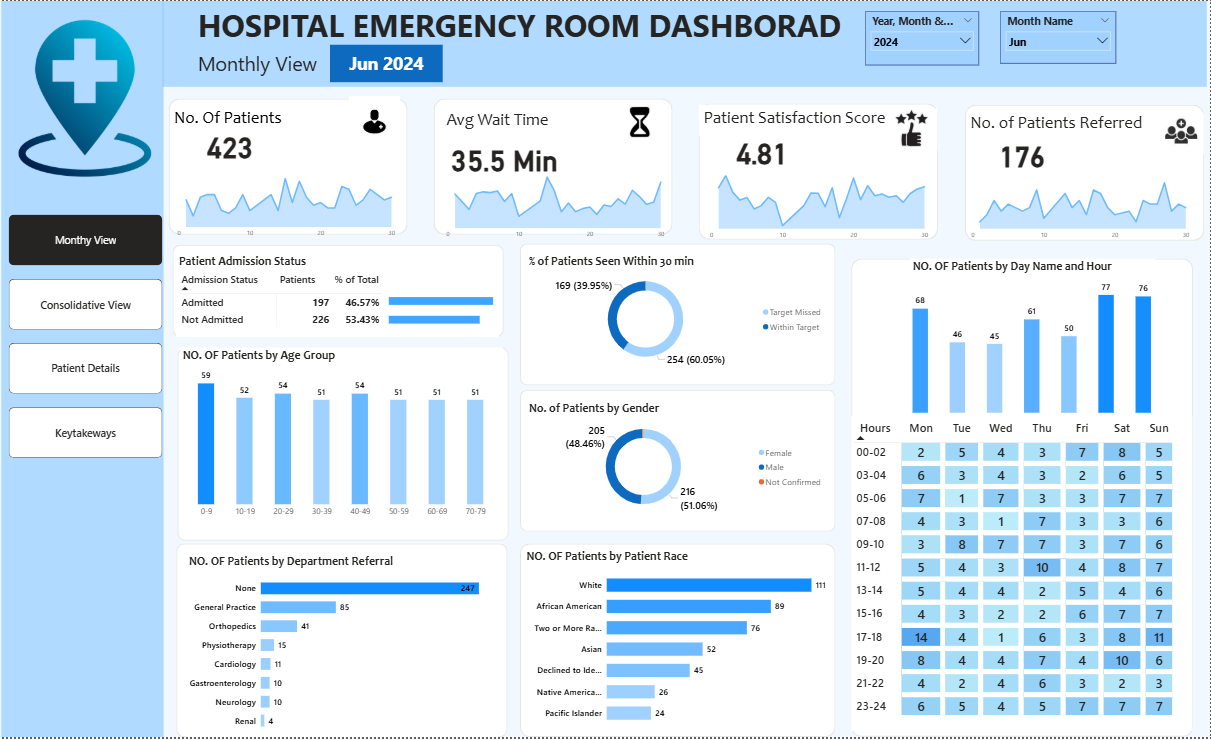

The dashboard page shown, as its layout file describes it:
{"tool":"powerbi","page":{"name":"Monthy View","canvas":[2300,1400],"ordinal":0},"visuals":[{"type":"shape","box":[1620,490,650,910],"z":0},{"type":"shape","box":[2.4,0,309.1,1400.5],"z":1000},{"type":"shape","box":[310,0,1986.7,163.3],"z":2000},{"type":"textbox","box":[370,0,1275,90],"z":3000},{"type":"shape","box":[321,185.5,454.1,259.2],"z":4000},{"type":"textbox","box":[369.9,138.1,342.7,2.5],"z":5000},{"type":"cardVisual","fields":{"Data":["Hospital ER_Data (1).NO. OF Patients"]},"box":[310.7,199.7,251.5,155.3],"z":6000},{"type":"slicer","fields":{"Values":["Date Table.Year","Date Table.Month & Year"]},"box":[1644.6,19.7,217,103.6],"z":7000},{"type":"slicer","fields":{"Values":["Date Table.Month Name"]},"box":[1902.2,19,221.1,99.9],"z":8000},{"type":"textbox","box":[369.9,88.8,473.4,69],"z":9000},{"type":"textbox","box":[325.5,197.3,221.9,49.3],"z":10000},{"type":"areaChart","fields":{"Category":["Date Table.Date.Variation.Date Hierarchy.Day"],"Y":["Hospital ER_Data (1).NO. OF Patients"]},"box":[325.5,313.1,434,145.5],"z":11000},{"type":"card","fields":{"Values":["Min(Date Table.Month & Year)"]},"box":[628.8,83.8,214.5,71.5],"z":12000},{"type":"shape","box":[825.2,185.5,454.1,259.2],"z":13000},{"type":"shape","box":[1834.5,197.3,455,258.9],"z":14000},{"type":"textbox","box":[1840.4,206.9,344.8,49.9],"z":15000},{"type":"areaChart","fields":{"Category":["Date Table.Date.Variation.Date Hierarchy.Day"],"Y":["Avg(Hospital ER_Data (1).Patient Waittime)"]},"box":[837,316.2,435.1,145],"z":16000},{"type":"cardVisual","fields":{"Data":["Hospital ER_Data (1).Avg Wait Time"]},"box":[789.4,242.5,340,118.9],"z":17000},{"type":"shape","box":[1329.4,195,455,259.2],"z":18000},{"type":"textbox","box":[844.1,199.7,223.5,61.8],"z":19000},{"type":"textbox","box":[1329.2,197.4,363.8,59.4],"z":20000},{"type":"cardVisual","fields":{"Data":["Hospital ER_Data (1).Satisfaction Score"]},"box":[1279.2,230.6,340,118.9],"z":21000},{"type":"areaChart","fields":{"Category":["Date Table.Date.Variation.Date Hierarchy.Day"],"Y":["Hospital ER_Data (1).Satisfaction Score"]},"box":[1338.7,318.6,435.1,145],"z":22000},{"type":"cardVisual","fields":{"Data":["Hospital ER_Data (1).No of patient Referred"]},"box":[1773.8,235.4,340,118.9],"z":23000},{"type":"shape","box":[328.1,463.7,630.1,176],"z":24000},{"type":"areaChart","fields":{"Category":["Date Table.Date.Variation.Date Hierarchy.Day"],"Y":["Hospital ER_Data (1).No of patient Referred"]},"box":[1835.6,318.6,435.1,145],"z":25000},{"type":"pivotTable","title":"Patient Admission Status","fields":{"Rows":["Hospital ER_Data (1).Admission Status"],"Values":["Hospital ER_Data (1).NO. OF Patients1","Hospital ER_Data (1).NO. OF Patients"]},"box":[335.3,480.3,613.5,159.3],"z":26000},{"type":"barChart","fields":{"Category":["Hospital ER_Data (1).Admission Status"],"Y":["Hospital ER_Data (1).NO. OF Patients"]},"box":[734.7,532.6,273.4,107],"z":27000},{"type":"shape","box":[336.7,658.3,630,368.3],"z":28000},{"type":"clusteredColumnChart","fields":{"Category":["Hospital ER_Data (1).Age Group"],"Y":["Hospital ER_Data (1).NO. OF Patients"]},"box":[342.4,658.6,613.5,332.9],"z":29000},{"type":"shape","box":[335.3,1031.9,630.1,368.5],"z":30000},{"type":"clusteredBarChart","fields":{"Category":["Hospital ER_Data (1).Department Referral"],"Y":["Hospital ER_Data (1).NO. OF Patients"]},"box":[354.3,1051,594.4,349.5],"z":31000},{"type":"shape","box":[989.1,461.3,600,270],"z":32000},{"type":"donutChart","title":"% of Patients Seen Within 30 min","fields":{"Category":["Hospital ER_Data (1).Wait Time Status"],"Y":["Hospital ER_Data (1).NO. OF Patients"]},"box":[1001.7,480,575,221.7],"z":33000},{"type":"shape","box":[988.3,738.3,600,270],"z":34000},{"type":"donutChart","title":"No. of Patients by Gender","fields":{"Y":["Hospital ER_Data (1).NO. OF Patients"],"Category":["Hospital ER_Data (1).Patient Gender"]},"box":[1001.7,761.7,575,221.7],"z":35000},{"type":"shape","box":[988.3,1031.7,600,368.3],"z":36000},{"type":"clusteredBarChart","fields":{"Y":["Hospital ER_Data (1).NO. OF Patients"],"Category":["Hospital ER_Data (1).Patient Race"]},"box":[996.7,1041.7,580,348.3],"z":37000},{"type":"pivotTable","fields":{"Rows":["Hospital ER_Data (1).Waittime Interval"],"Columns":["Date Table.Day Name"],"Values":["Hospital ER_Data (1).NO. OF Patients"]},"box":[1619.2,789.4,649.1,599.2],"z":38000},{"type":"columnChart","title":"NO. OF Patients by Day Name and Hour","fields":{"Category":["Date Table.Day Name"],"Y":["Hospital ER_Data (1).NO. OF Patients"]},"box":[1731,489.8,466,299.6],"z":39000},{"type":"image","box":[11.9,35.7,299.6,299.6],"z":40000},{"type":"image","box":[642,180.7,140.3,97.5],"z":41000},{"type":"image","box":[1158,197.4,121.3,64.2],"z":42000},{"type":"image","box":[2197,187.8,92.7,128.4],"z":43000},{"type":"image","box":[1692.9,197.4,90.4,95.1],"z":44000},{"type":"pageNavigator","box":[17.5,407.5,292.5,465],"z":45000}]}

Visuals, with their boxes in screenshot pixels (x1, y1, x2, y2), scaled from the page's 2300x1400 canvas onto the 1211x740 screenshot:
shape: [853,259,1195,739]
shape: [1,0,164,739]
shape: [163,0,1209,86]
textbox: [195,0,866,48]
shape: [169,98,408,235]
textbox: [195,73,375,74]
cardVisual - Hospital ER_Data (1).NO. OF Patients: [164,106,296,188]
slicer - Date Table.Year x Date Table.Month & Year: [866,10,980,65]
slicer - Date Table.Month Name: [1002,10,1118,63]
textbox: [195,47,444,83]
textbox: [171,104,288,130]
areaChart - Date Table.Date.Variation.Date Hierarchy.Day x Hospital ER_Data (1).NO. OF Patients: [171,165,400,242]
card - Min(Date Table.Month & Year): [331,44,444,82]
shape: [434,98,674,235]
shape: [966,104,1205,241]
textbox: [969,109,1151,136]
areaChart - Date Table.Date.Variation.Date Hierarchy.Day x Avg(Hospital ER_Data (1).Patient Waittime): [441,167,670,244]
cardVisual - Hospital ER_Data (1).Avg Wait Time: [416,128,595,191]
shape: [700,103,940,240]
textbox: [444,106,562,138]
textbox: [700,104,891,136]
cardVisual - Hospital ER_Data (1).Satisfaction Score: [674,122,853,185]
areaChart - Date Table.Date.Variation.Date Hierarchy.Day x Hospital ER_Data (1).Satisfaction Score: [705,168,934,245]
cardVisual - Hospital ER_Data (1).No of patient Referred: [934,124,1113,187]
shape: [173,245,505,338]
areaChart - Date Table.Date.Variation.Date Hierarchy.Day x Hospital ER_Data (1).No of patient Referred: [966,168,1196,245]
"Patient Admission Status" pivotTable: [177,254,500,338]
barChart - Hospital ER_Data (1).Admission Status x Hospital ER_Data (1).NO. OF Patients: [387,282,531,338]
shape: [177,348,509,543]
clusteredColumnChart - Hospital ER_Data (1).Age Group x Hospital ER_Data (1).NO. OF Patients: [180,348,503,524]
shape: [177,545,508,739]
clusteredBarChart - Hospital ER_Data (1).Department Referral x Hospital ER_Data (1).NO. OF Patients: [187,556,500,739]
shape: [521,244,837,387]
"% of Patients Seen Within 30 min" donutChart: [527,254,830,371]
shape: [520,390,836,533]
"No. of Patients by Gender" donutChart: [527,403,830,520]
shape: [520,545,836,739]
clusteredBarChart - Hospital ER_Data (1).NO. OF Patients x Hospital ER_Data (1).Patient Race: [525,551,830,735]
pivotTable - Hospital ER_Data (1).Waittime Interval x Date Table.Day Name: [853,417,1194,734]
"NO. OF Patients by Day Name and Hour" columnChart: [911,259,1157,417]
image: [6,19,164,177]
image: [338,96,412,147]
image: [610,104,674,138]
image: [1157,99,1206,167]
image: [891,104,939,155]
pageNavigator: [9,215,163,461]
